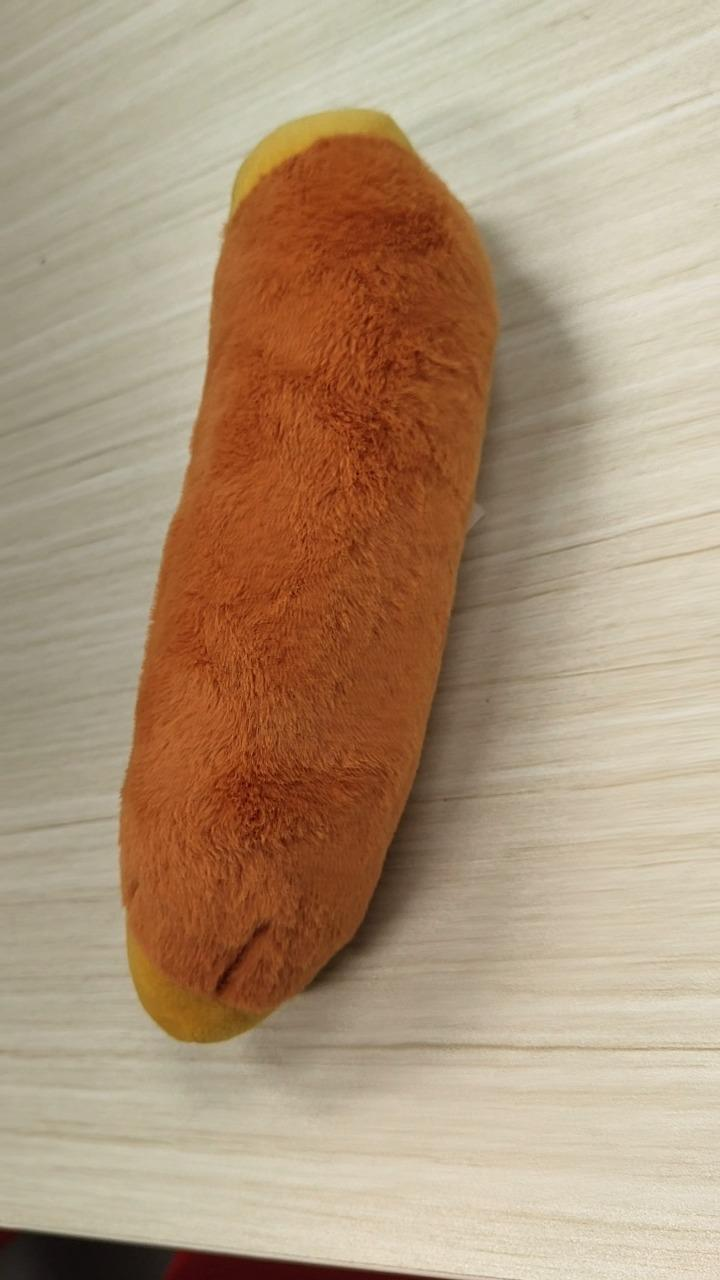hotdog: (117, 106, 500, 1044)
